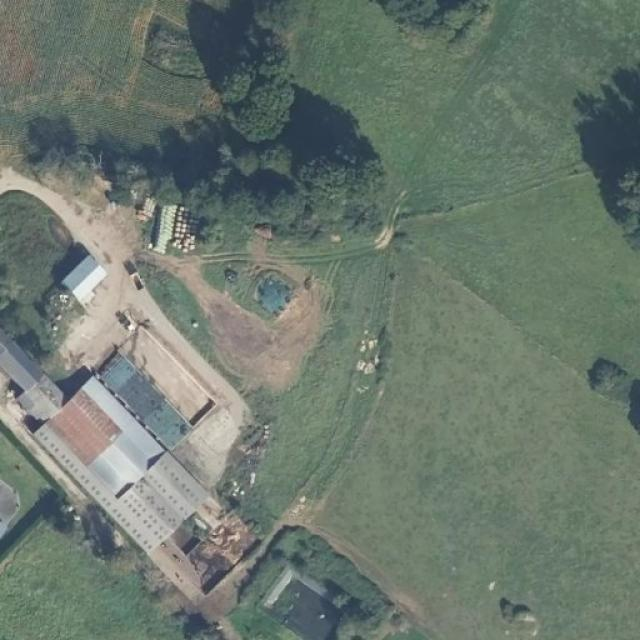ferme: (0, 351, 216, 564), (59, 256, 108, 302)
piscine: (253, 558, 355, 640), (236, 263, 302, 316)
